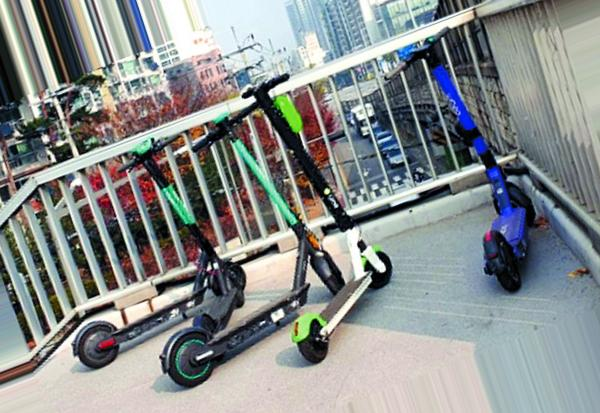scooter: (159, 100, 347, 389), (241, 70, 391, 362), (383, 25, 539, 292)
